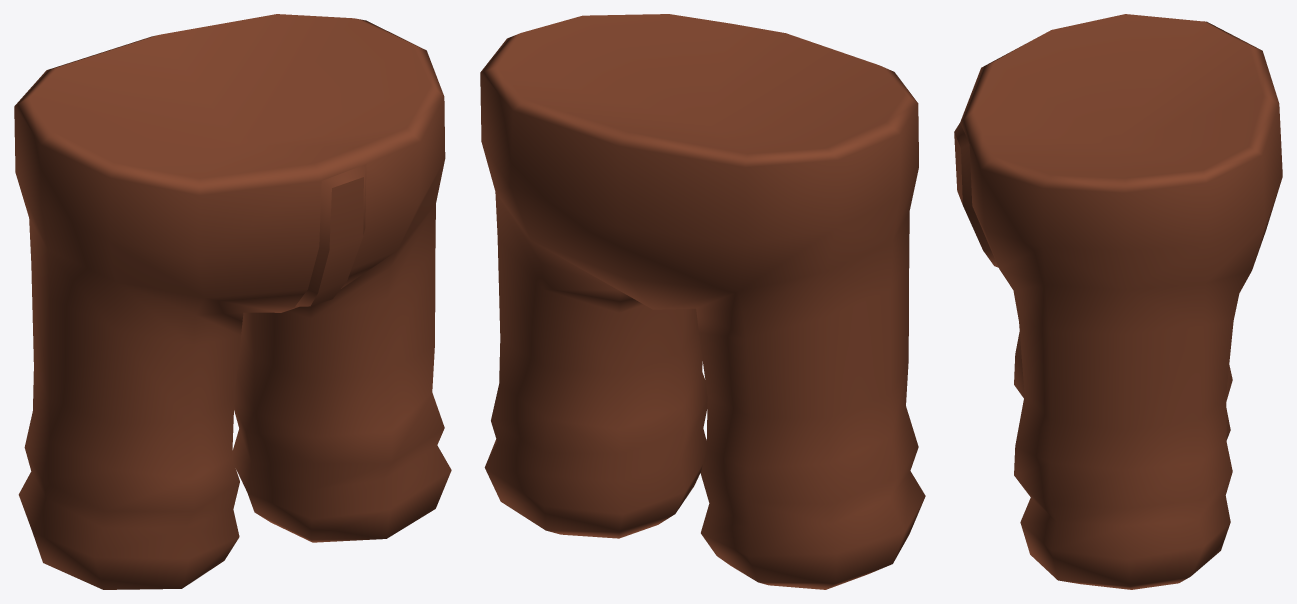
The model's file is Bottom_26.fbx.
The picture shows the model from 3 angles, left to right: view 1: azimuth 30°, elevation 25°; view 2: azimuth 150°, elevation 25°; view 3: azimuth 270°, elevation 25°; orthographic projection. The views are drawn at different scales.
Visible parts, largest first — view 1: Bottom_26; view 2: Bottom_26; view 3: Bottom_26.
Part boxes in pixels (box(x1,y1,x2,y2)): Bottom_26: box(14, 14, 451, 589); Bottom_26: box(480, 14, 925, 589); Bottom_26: box(954, 14, 1282, 589).
Bounding box in the file's own units: 39.8 × 42.8 × 30.23.
